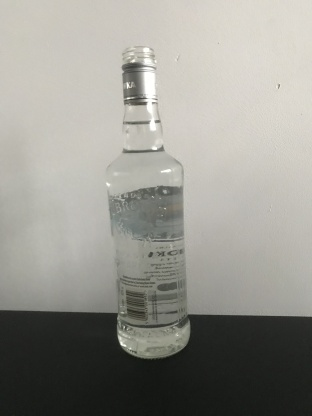nakretka: (120, 45, 159, 105)
